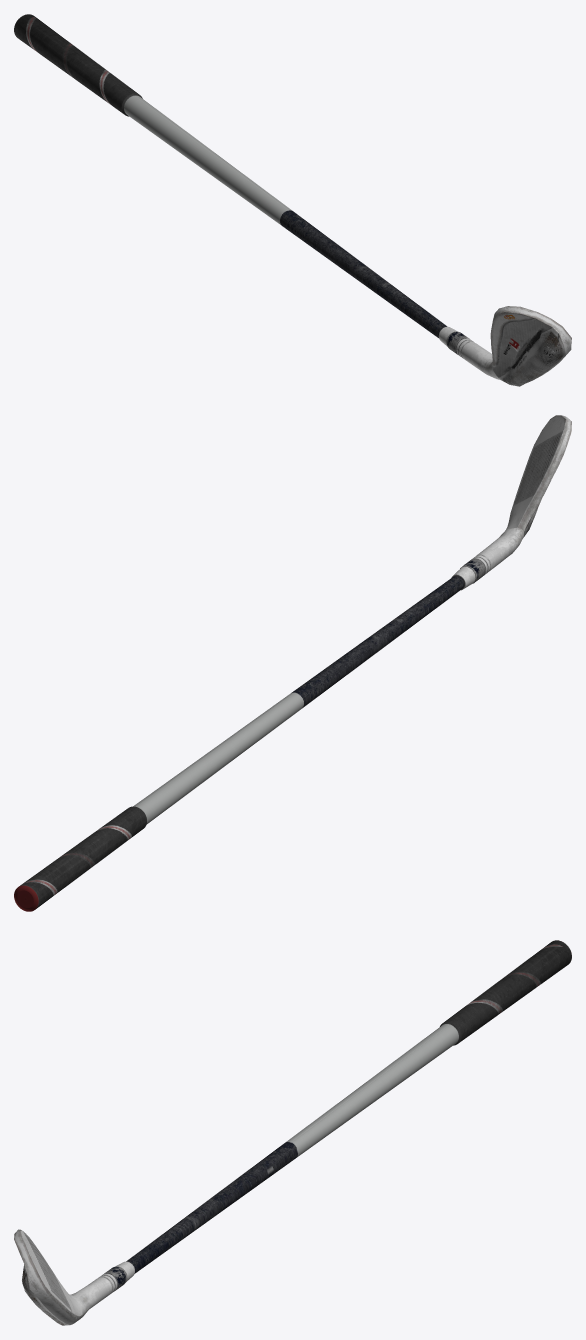
Rendered from club.glb.
3 views of the same model, one above another, from view 1: azimuth 30°, elevation 25°; view 2: azimuth 150°, elevation 25°; view 3: azimuth 330°, elevation 25° (orthographic). The views are drawn at different scales.
Visible parts, largest first — view 1: Palo_Final; view 2: Palo_Final; view 3: Palo_Final.
Boxes of the visible parts, x1,y1,x2,y2 form: Palo_Final: [14, 14, 571, 386]; Palo_Final: [14, 415, 571, 911]; Palo_Final: [14, 940, 571, 1325].
Size of the model in its own units: 0.0585 by 0.1146 by 1.
Materials: 1 (1 with a texture image).
